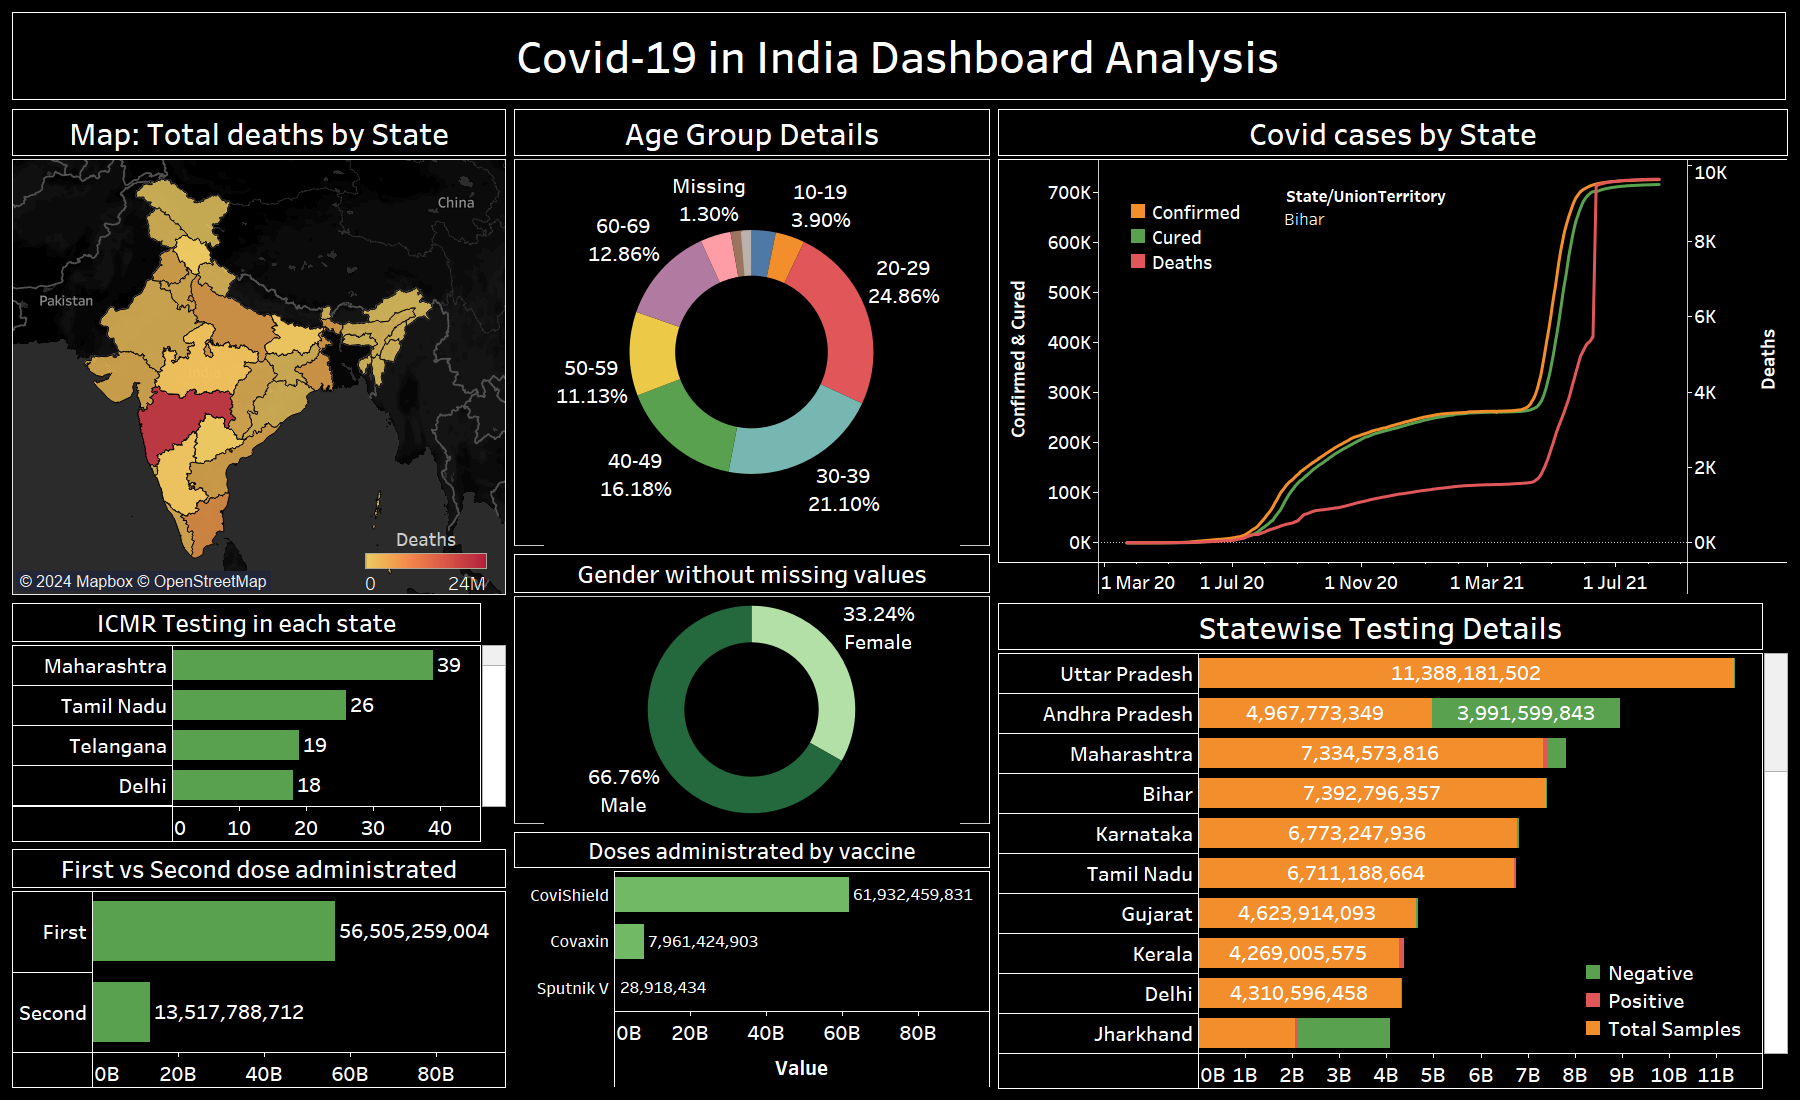

What the dashboard file says about the page in this screenshot:
{"tool":"tableau","page":{"name":"My Dashboard","canvas":[1800,1100],"ordinal":0},"visuals":[{"type":"worksheet","title":"Title","mark":"Automatic","box":[8,8,1784,97]},{"type":"worksheet","title":"Map Total deaths by state","mark":"Automatic","box":[8,105,502,493.5]},{"type":"worksheet","title":"Age Group Details","mark":"Pie","rows":["Calculation_403072230762577923","Calculation_403072230762577923"],"box":[510,105,484,444.6]},{"type":"worksheet","title":"Covid cases by State","mark":"Automatic","rows":["Deaths"],"cols":["Date"],"box":[994,105,798,493.5]},{"type":"filter","title":"Covid cases by State","param":"[federated.1axivfo150l4rw0zwxm5l1jh7xme].[none:State/UnionTerritory:nk]","box":[1282,184,168,72]},{"type":"legend","title":"Covid cases by State","param":"[federated.1axivfo150l4rw0zwxm5l1jh7xme].[:Measure Names]","box":[1126,199,140,75]},{"type":"legend","title":"Map Total deaths by state","param":"[federated.1axivfo150l4rw0zwxm5l1jh7xme].[sum:Deaths:qk]","box":[361,522,130,71]},{"type":"worksheet","title":"Gender without missing values","mark":"Pie","rows":["Calculation_403072230765658117","Calculation_403072230765658117"],"box":[510,549.6,484,278.3]},{"type":"worksheet","title":"ICMR Testing in each state","mark":"Automatic","rows":["state"],"cols":["lab"],"box":[8,598.5,502,246.8]},{"type":"worksheet","title":"statewise testing details","mark":"Automatic","rows":["State"],"box":[994,598.5,798,493.5]},{"type":"worksheet","title":"Doses administrated by vaccine","mark":"Automatic","box":[510,827.9,484,264.1]},{"type":"worksheet","title":"First vs Second dose administrated","mark":"Automatic","box":[8,845.3,502,246.8]},{"type":"legend","title":"statewise testing details","param":"[federated.0oc1ey40hjybyr1cx6hts1mibn0u].[:Measure Names]","box":[1579,958,167,84]}]}

Visuals, with their boxes in screenshot pixels (x1, y1, x2, y2), scaled from the page's 1800x1100 canvas onto the 1800x1100 screenshot:
"Title" worksheet: {"left": 8, "top": 8, "right": 1792, "bottom": 105}
"Map Total deaths by state" worksheet: {"left": 8, "top": 105, "right": 510, "bottom": 598}
"Age Group Details" worksheet (Pie marks): {"left": 510, "top": 105, "right": 994, "bottom": 550}
"Covid cases by State" worksheet: {"left": 994, "top": 105, "right": 1792, "bottom": 598}
"Covid cases by State" filter: {"left": 1282, "top": 184, "right": 1450, "bottom": 256}
"Covid cases by State" legend: {"left": 1126, "top": 199, "right": 1266, "bottom": 274}
"Map Total deaths by state" legend: {"left": 361, "top": 522, "right": 491, "bottom": 593}
"Gender without missing values" worksheet (Pie marks): {"left": 510, "top": 550, "right": 994, "bottom": 828}
"ICMR Testing in each state" worksheet: {"left": 8, "top": 598, "right": 510, "bottom": 845}
"statewise testing details" worksheet: {"left": 994, "top": 598, "right": 1792, "bottom": 1092}
"Doses administrated by vaccine" worksheet: {"left": 510, "top": 828, "right": 994, "bottom": 1092}
"First vs Second dose administrated" worksheet: {"left": 8, "top": 845, "right": 510, "bottom": 1092}
"statewise testing details" legend: {"left": 1579, "top": 958, "right": 1746, "bottom": 1042}
